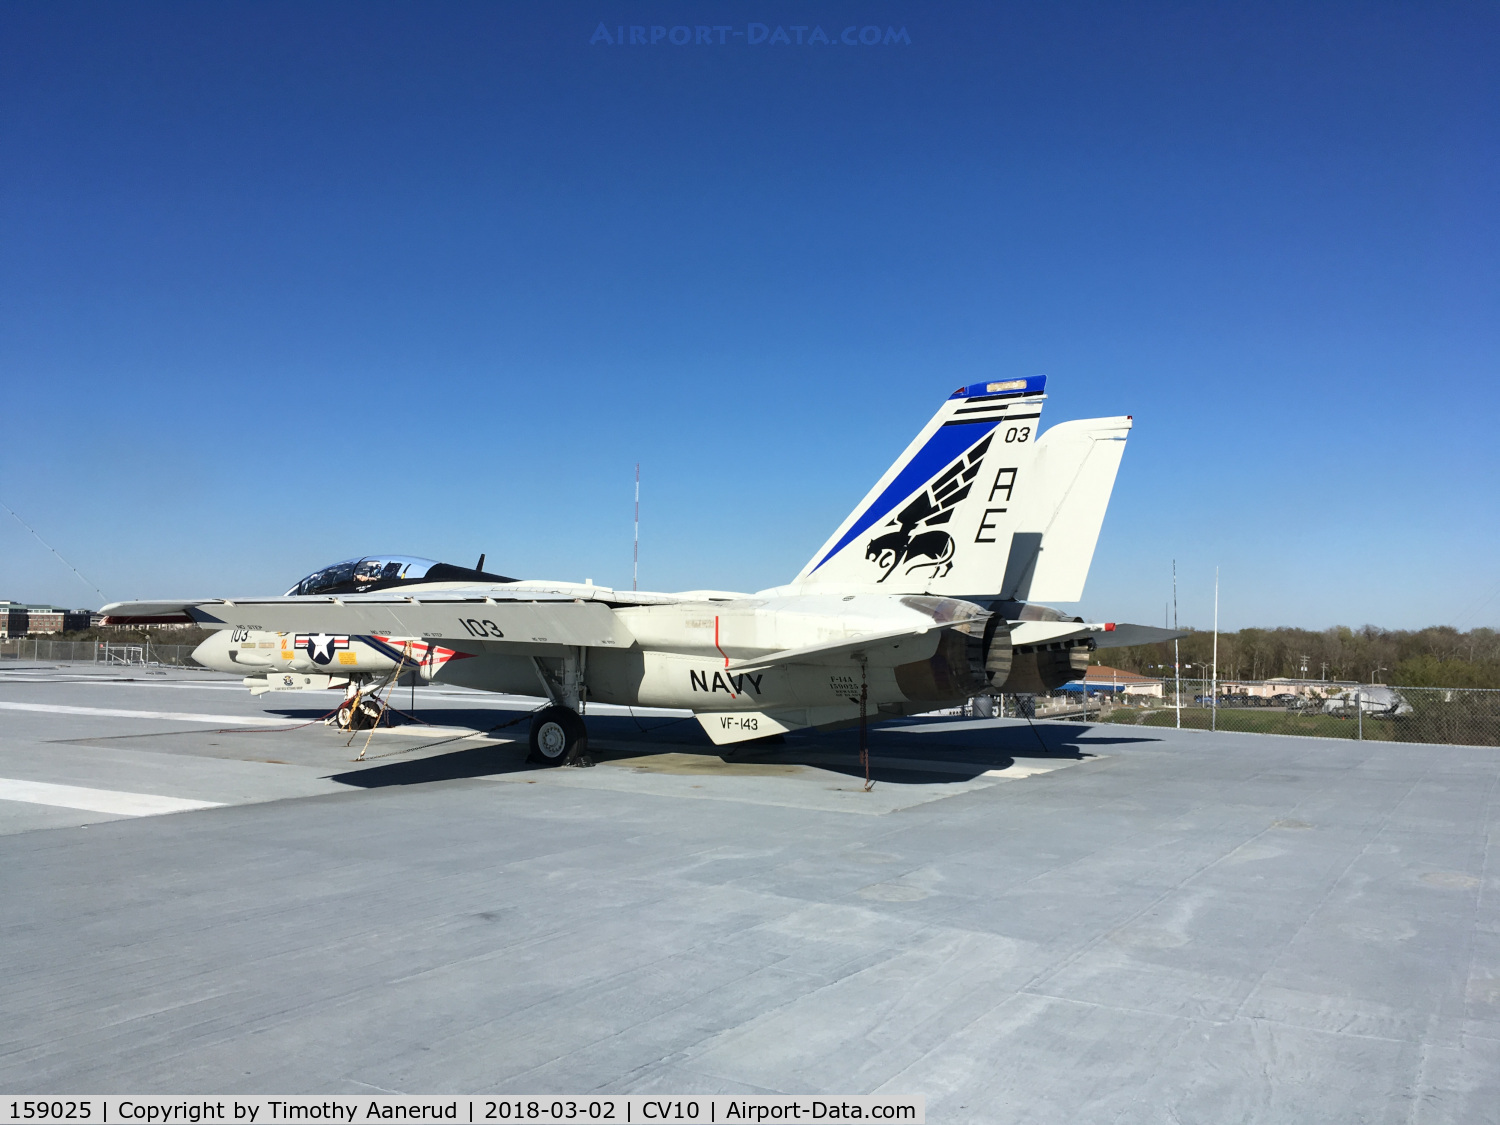F14: (96, 372, 1194, 765)
